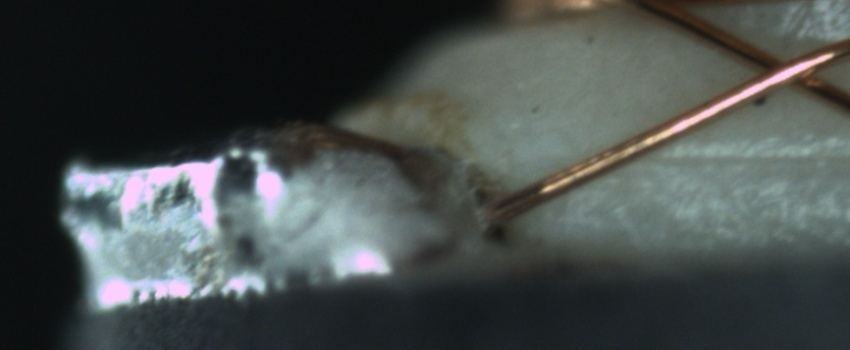CL: (732, 38, 842, 101)
DL: (631, 126, 849, 187)
